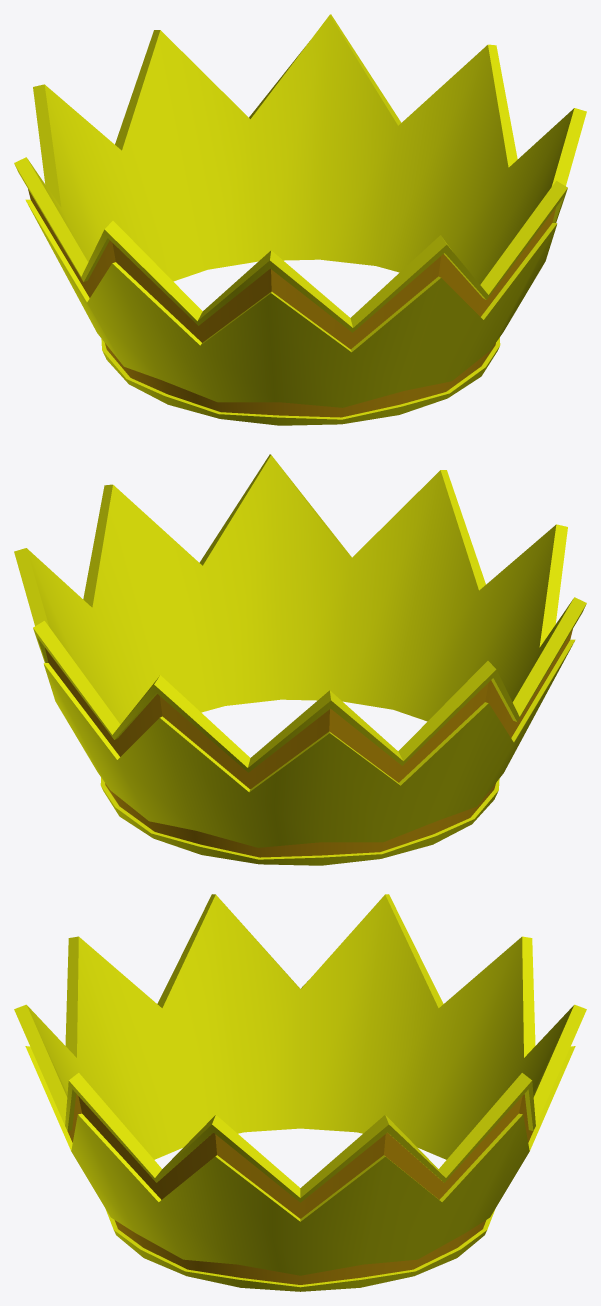
Rendered from _blenderCrown.fbx.
3 renders of one model, top to bottom at view 1: azimuth 30°, elevation 25°; view 2: azimuth 150°, elevation 25°; view 3: azimuth 270°, elevation 25°, orthographic. The views are drawn at different scales.
Visible parts, largest first — view 1: Crown; view 2: Crown; view 3: Crown.
Boxes of the visible parts, box(x1,y1,x2,y2) form: Crown: box(14, 14, 586, 425); Crown: box(14, 454, 586, 865); Crown: box(14, 894, 586, 1291).
Size of the model in its own units: 281 by 117 by 296.
